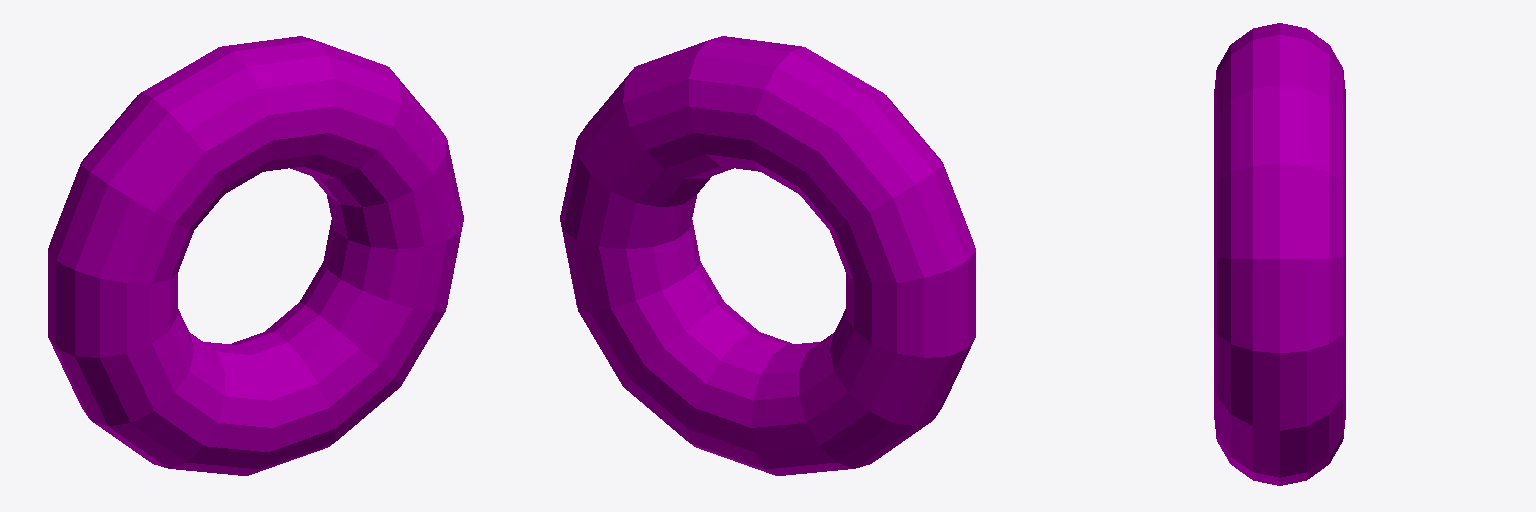
The model's file is Donut.obj.
3 renders of one model, left to right at view 1: azimuth 30°, elevation 25°; view 2: azimuth 150°, elevation 25°; view 3: azimuth 270°, elevation 25°, orthographic.
Visible parts, largest first — view 1: Donut; view 2: Donut; view 3: Donut.
Part boxes in pixels (x1,y1,x2,y2): Donut: (48,36,463,475); Donut: (560,36,975,475); Donut: (1214,23,1345,485).
Bounding box in the file's own units: 13.85 × 13.92 × 3.98.